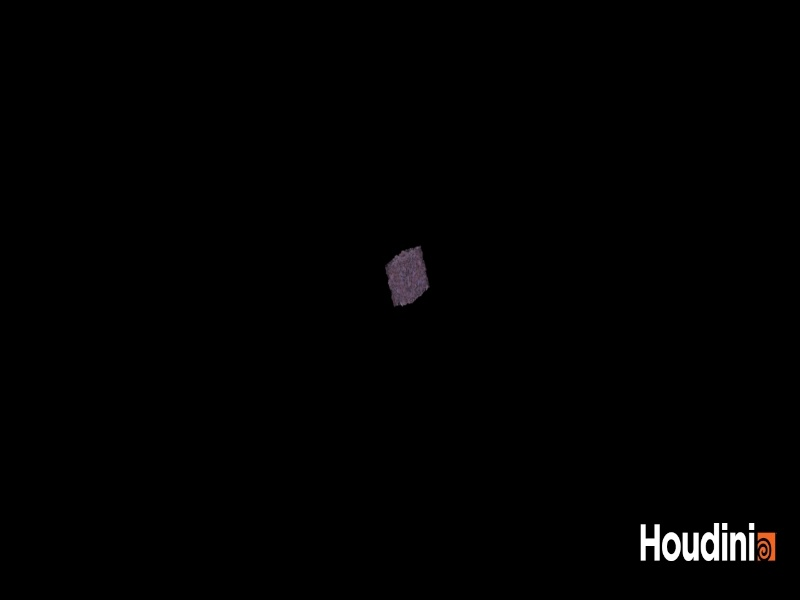waste: (377, 232, 435, 317)
